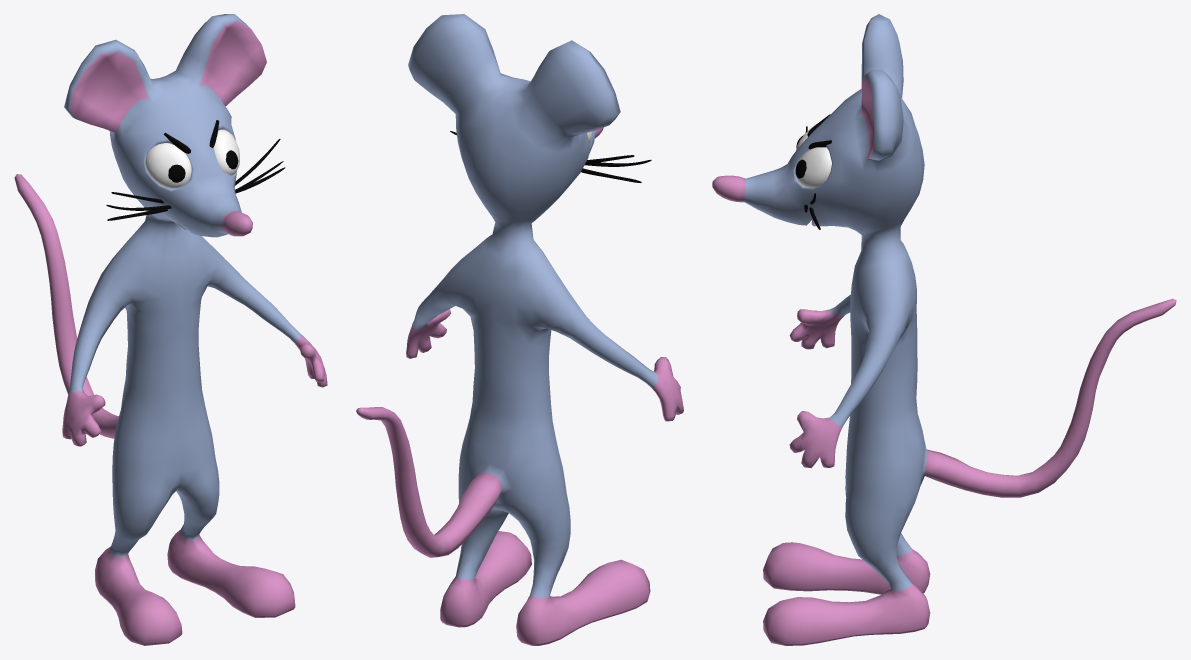
File: Kuper_Ninja_00I_Scale_Fixed.fbx
3 renders of one model, left to right at view 1: azimuth 30°, elevation 25°; view 2: azimuth 150°, elevation 25°; view 3: azimuth 270°, elevation 25°, orthographic. The views are drawn at different scales.
Parts seen in each view (by area): view 1: Kuper_Ninja_00I; view 2: Kuper_Ninja_00I; view 3: Kuper_Ninja_00I.
Boxes of the visible parts, x1,y1,x2,y2 form: Kuper_Ninja_00I: (14,14,327,645); Kuper_Ninja_00I: (356,14,683,645); Kuper_Ninja_00I: (712,14,1176,645).
Size of the model in its own units: 0.944 by 1.99 by 1.49.
